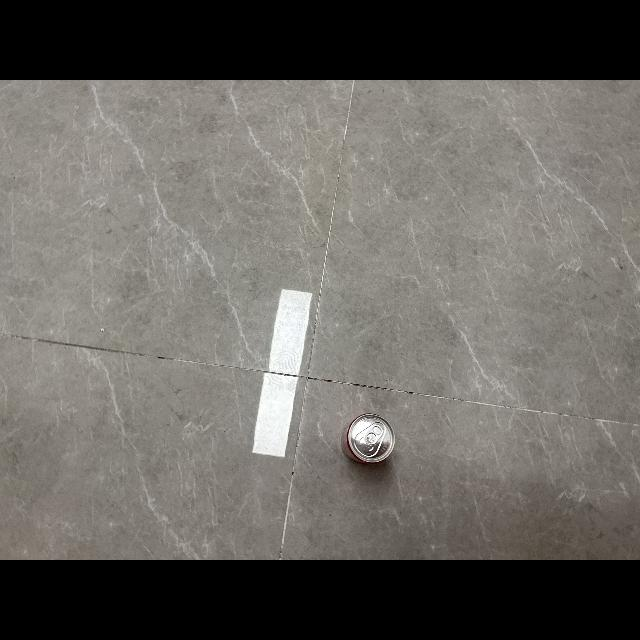Cola: (344, 410, 398, 468)
